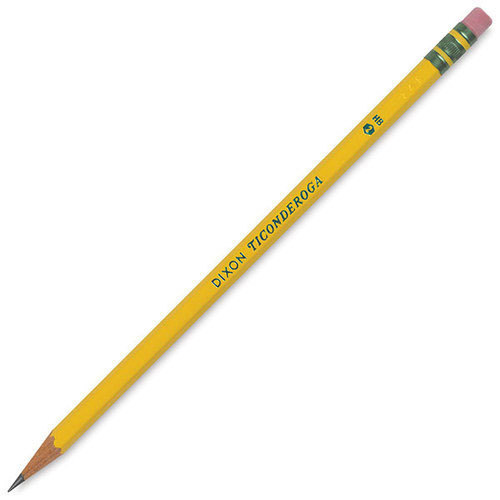pen_tip: (3, 425, 77, 492)
